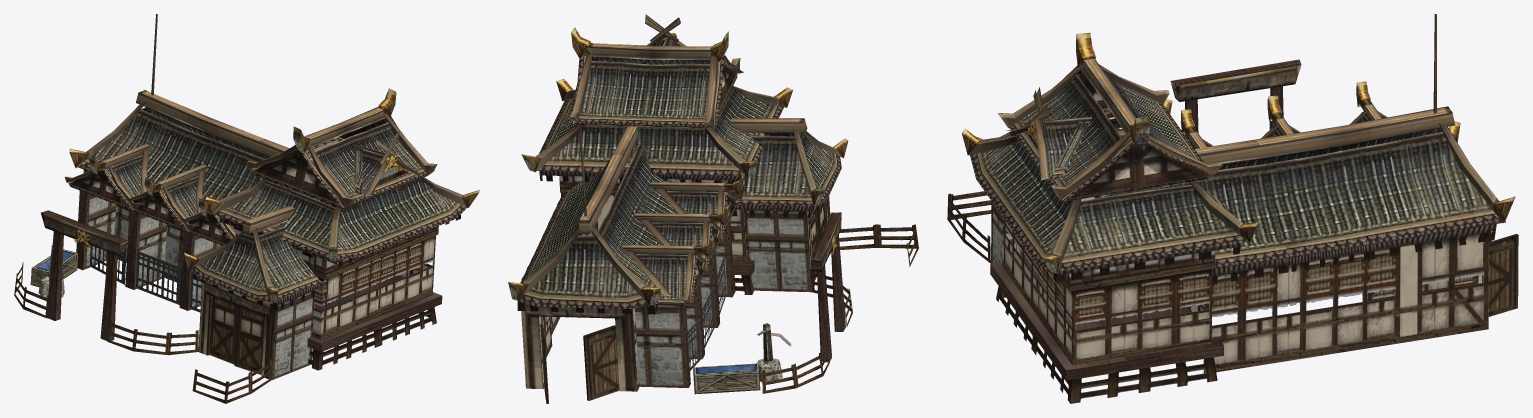
Rendered from japan_stable.fbx.
The picture shows the model from 3 angles, left to right: view 1: azimuth 30°, elevation 25°; view 2: azimuth 150°, elevation 25°; view 3: azimuth 270°, elevation 25°; orthographic projection. The views are drawn at different scales.
Visible parts, largest first — view 1: Object01, Object02; view 2: Object01, Object02; view 3: Object01, Object02.
Part boxes in pixels (x1,y1,x2,y2): Object01: [14, 14, 479, 403]; Object02: [121, 104, 435, 339]; Object01: [508, 14, 918, 403]; Object02: [543, 53, 810, 334]; Object01: [947, 14, 1518, 403]; Object02: [1002, 67, 1488, 373].
Bounding box in the file's own units: 11.2 × 12.32 × 7.24.
Materials: 1 (1 with a texture image).
